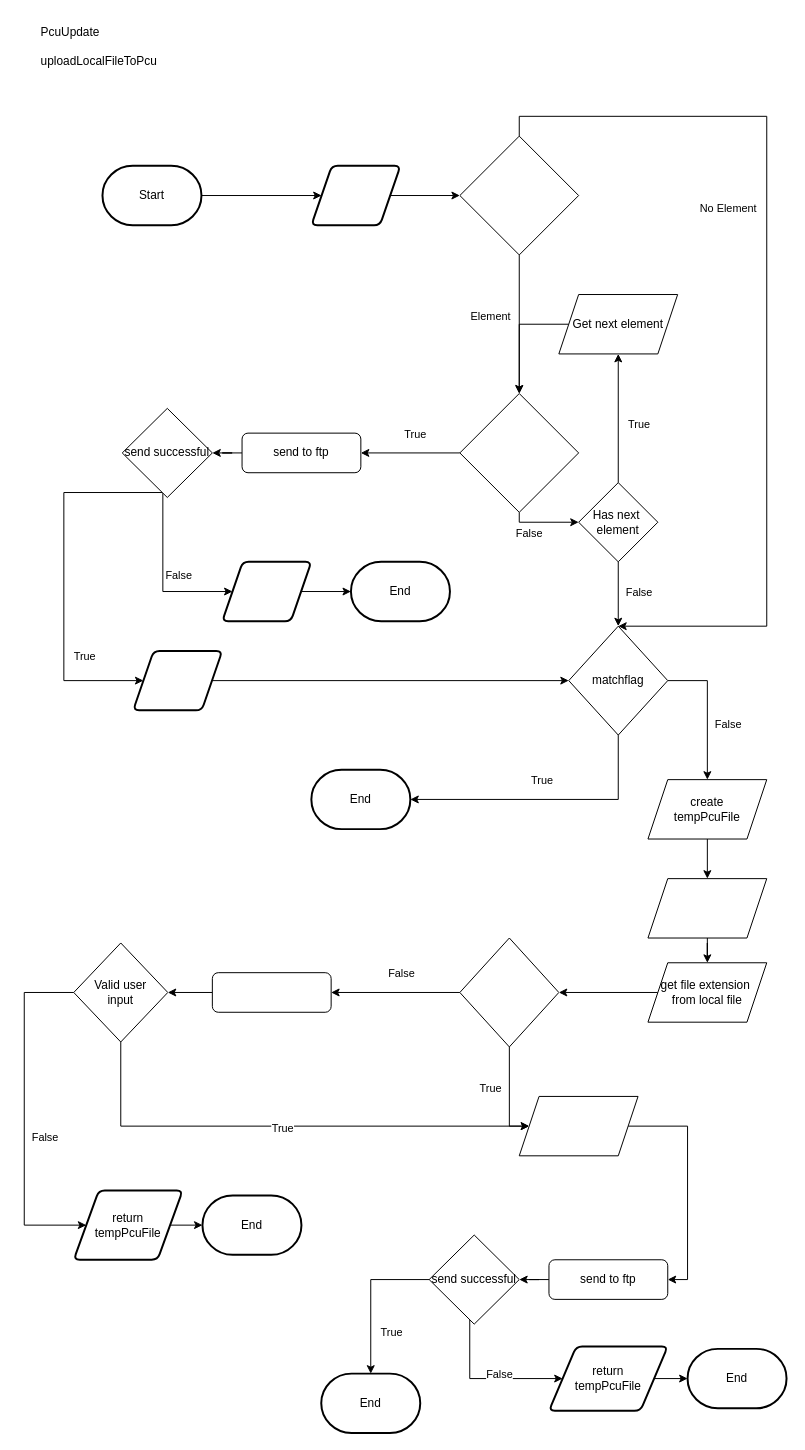
Some shapes in this 805 by 1450 pixel diagram are drawn without their labels. The shapes that lost their labels are listed below. From the top down, each one's centre as x and y in pixels, then its label:
(355,195): set matchflag to false
(519,195): Foreach element pcuFile in pcuFileMatch
(519,452): match found localfile and pcuFile
(266,591): return pcuFile
(177,680): set matchflag to true
(707,908): set pcuFile path
(271,992): Prompt user for transferType
(509,992): file extension matched
(578,1125): set transfertype
